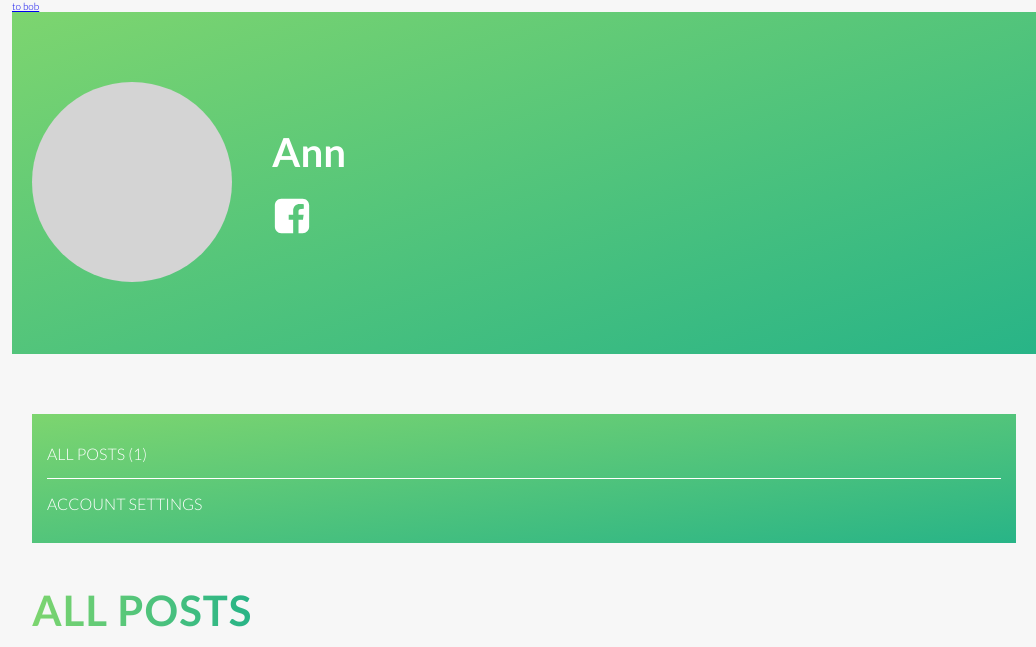
Test: AccountProfile account settings form › gives every settings field a label
Click the button "Account settings" at {"x": 125, "y": 504}, box [47,494,202,513]
(page scrolled)
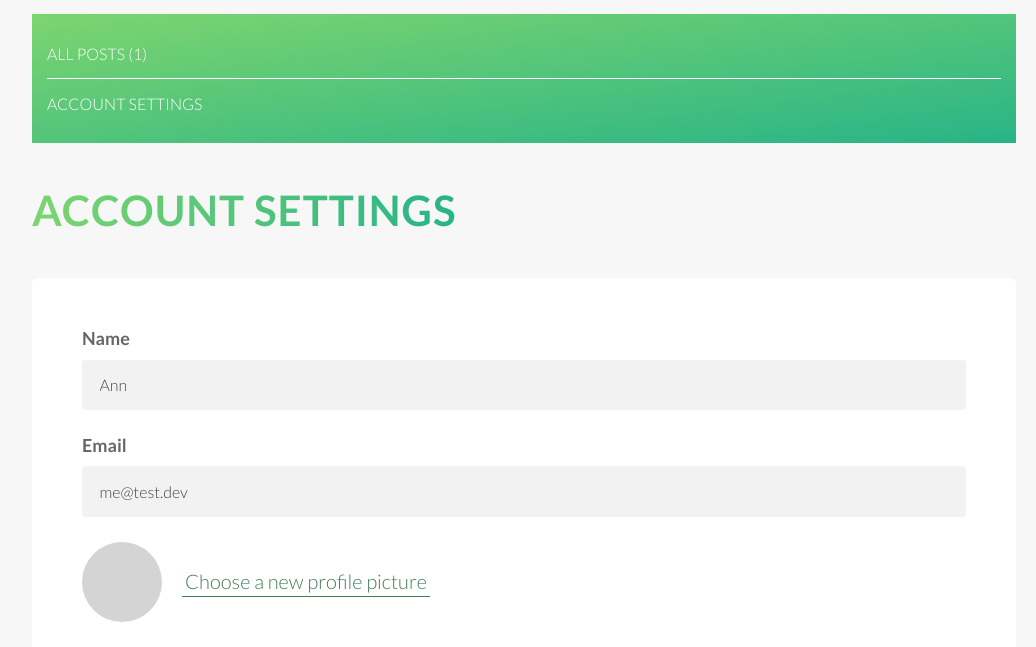
Expected: the field labelled "Name" is shown, [82,360,966,410]
